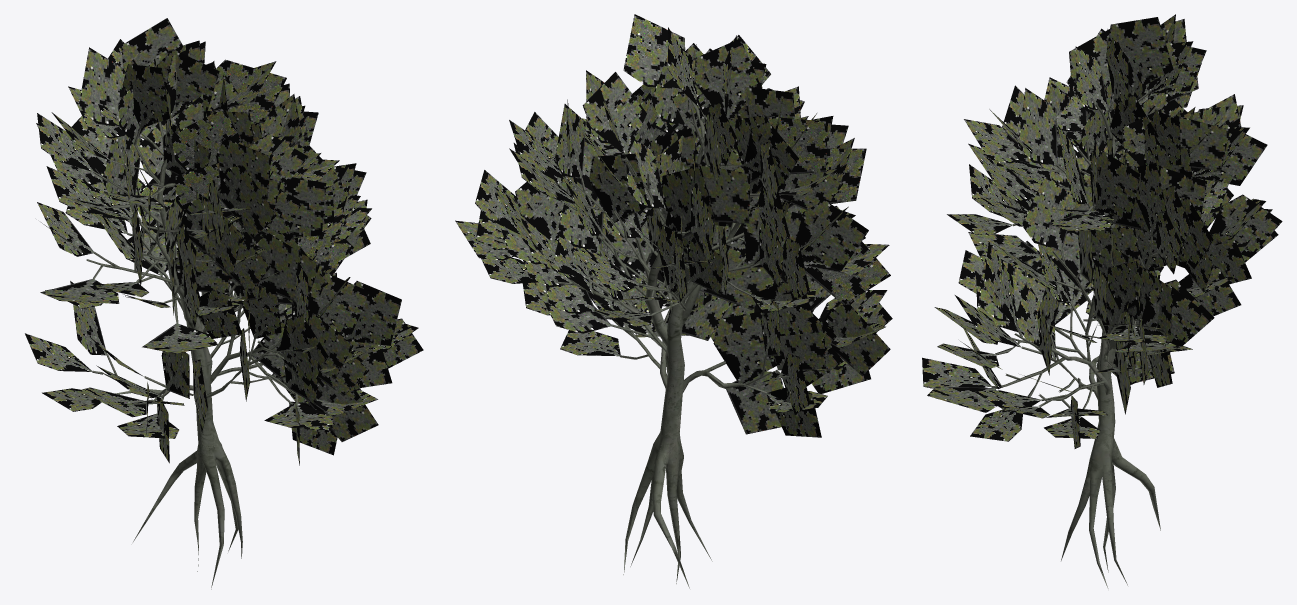
File: american_beech_d.glb
3 views of the same model, side by side, from view 1: azimuth 30°, elevation 25°; view 2: azimuth 150°, elevation 25°; view 3: azimuth 270°, elevation 25° (orthographic). The views are drawn at different scales.
Parts seen in each view (by area): view 1: american_beech_d_LOD0; view 2: american_beech_d_LOD0; view 3: american_beech_d_LOD0.
Boxes of the visible parts, <box> form: american_beech_d_LOD0: <box>25,18,423,589</box>; american_beech_d_LOD0: <box>455,14,892,588</box>; american_beech_d_LOD0: <box>922,14,1282,588</box>.
Size of the model in its own units: 12.22 by 17.3 by 10.26.
Materials: 1 (1 with a texture image).
